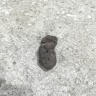Dog: (39, 35, 57, 70)
